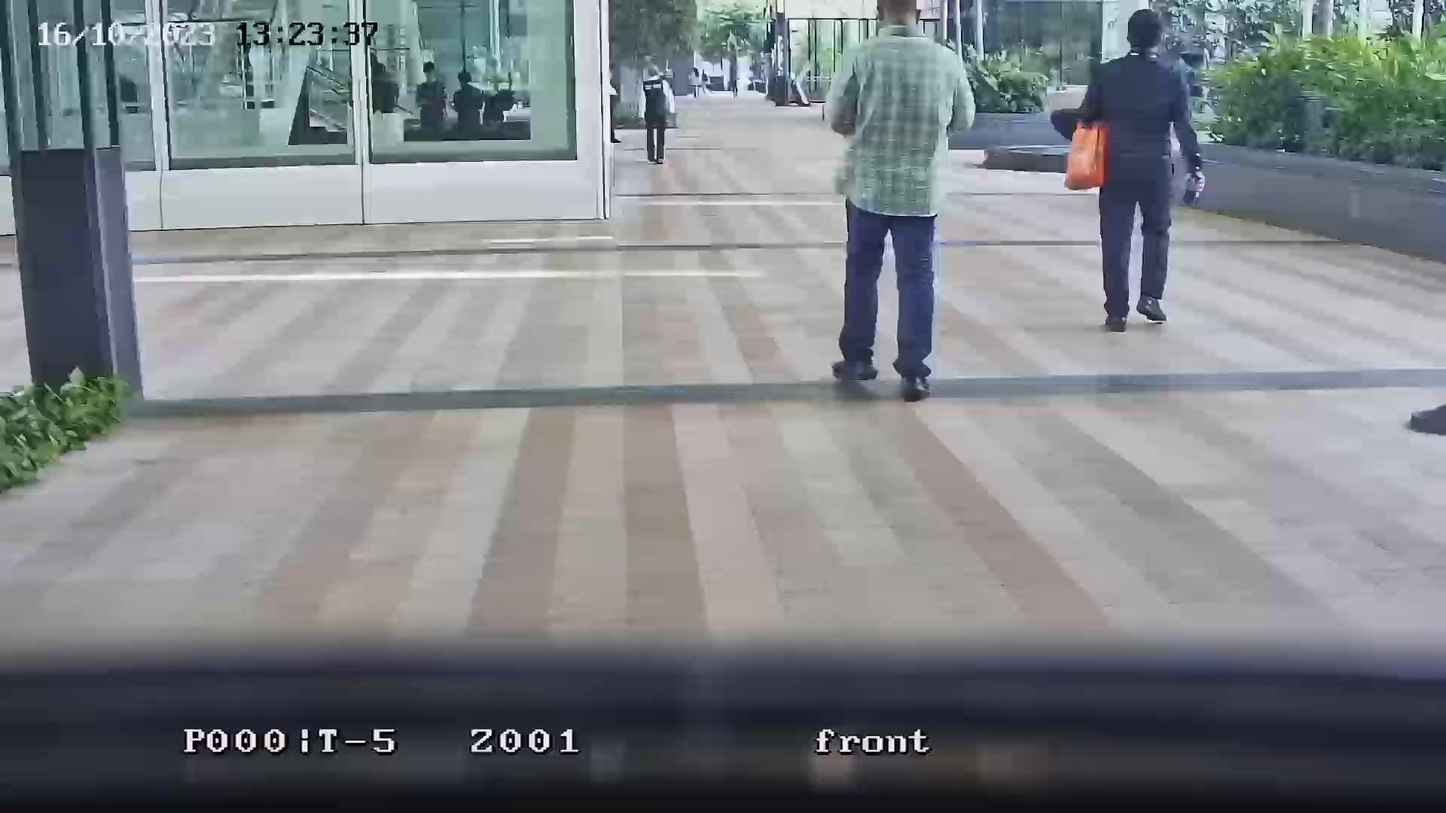person: (824, 0, 977, 400), (1069, 8, 1205, 331), (640, 62, 676, 165), (453, 68, 486, 137), (416, 62, 446, 136)
